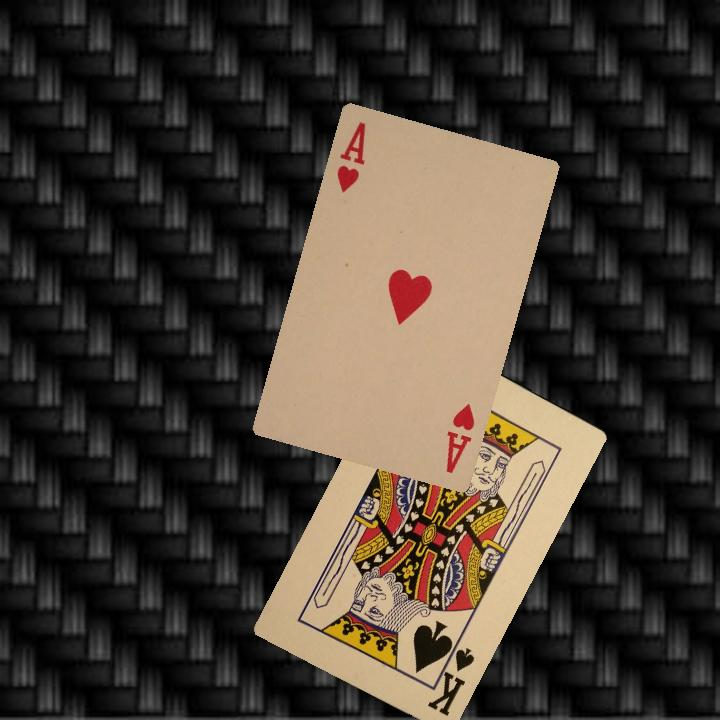Ah: (332, 117, 369, 195), (441, 399, 478, 476)
Ks: (423, 635, 477, 719)
